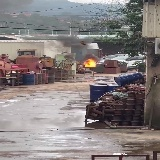fire: (84, 58, 96, 67)
